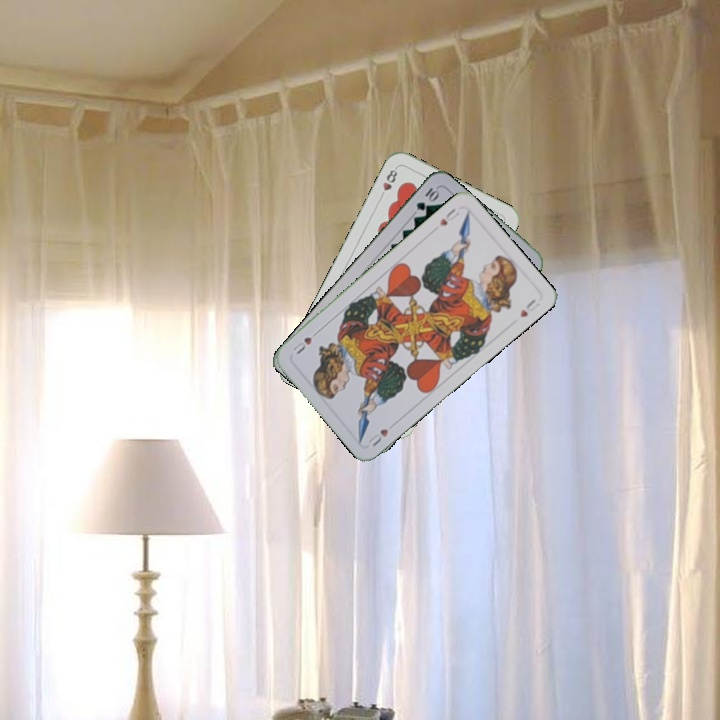G10: (412, 183, 442, 213)
H8: (376, 163, 400, 201)
HU: (435, 204, 462, 229), (364, 425, 391, 449)
